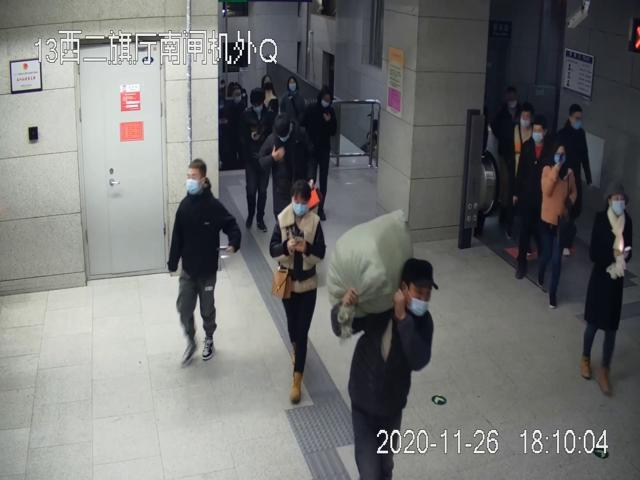person: (330, 255, 439, 480), (168, 159, 241, 360), (269, 178, 326, 403), (581, 183, 632, 398), (537, 143, 577, 309), (239, 88, 274, 236), (304, 87, 339, 219)
